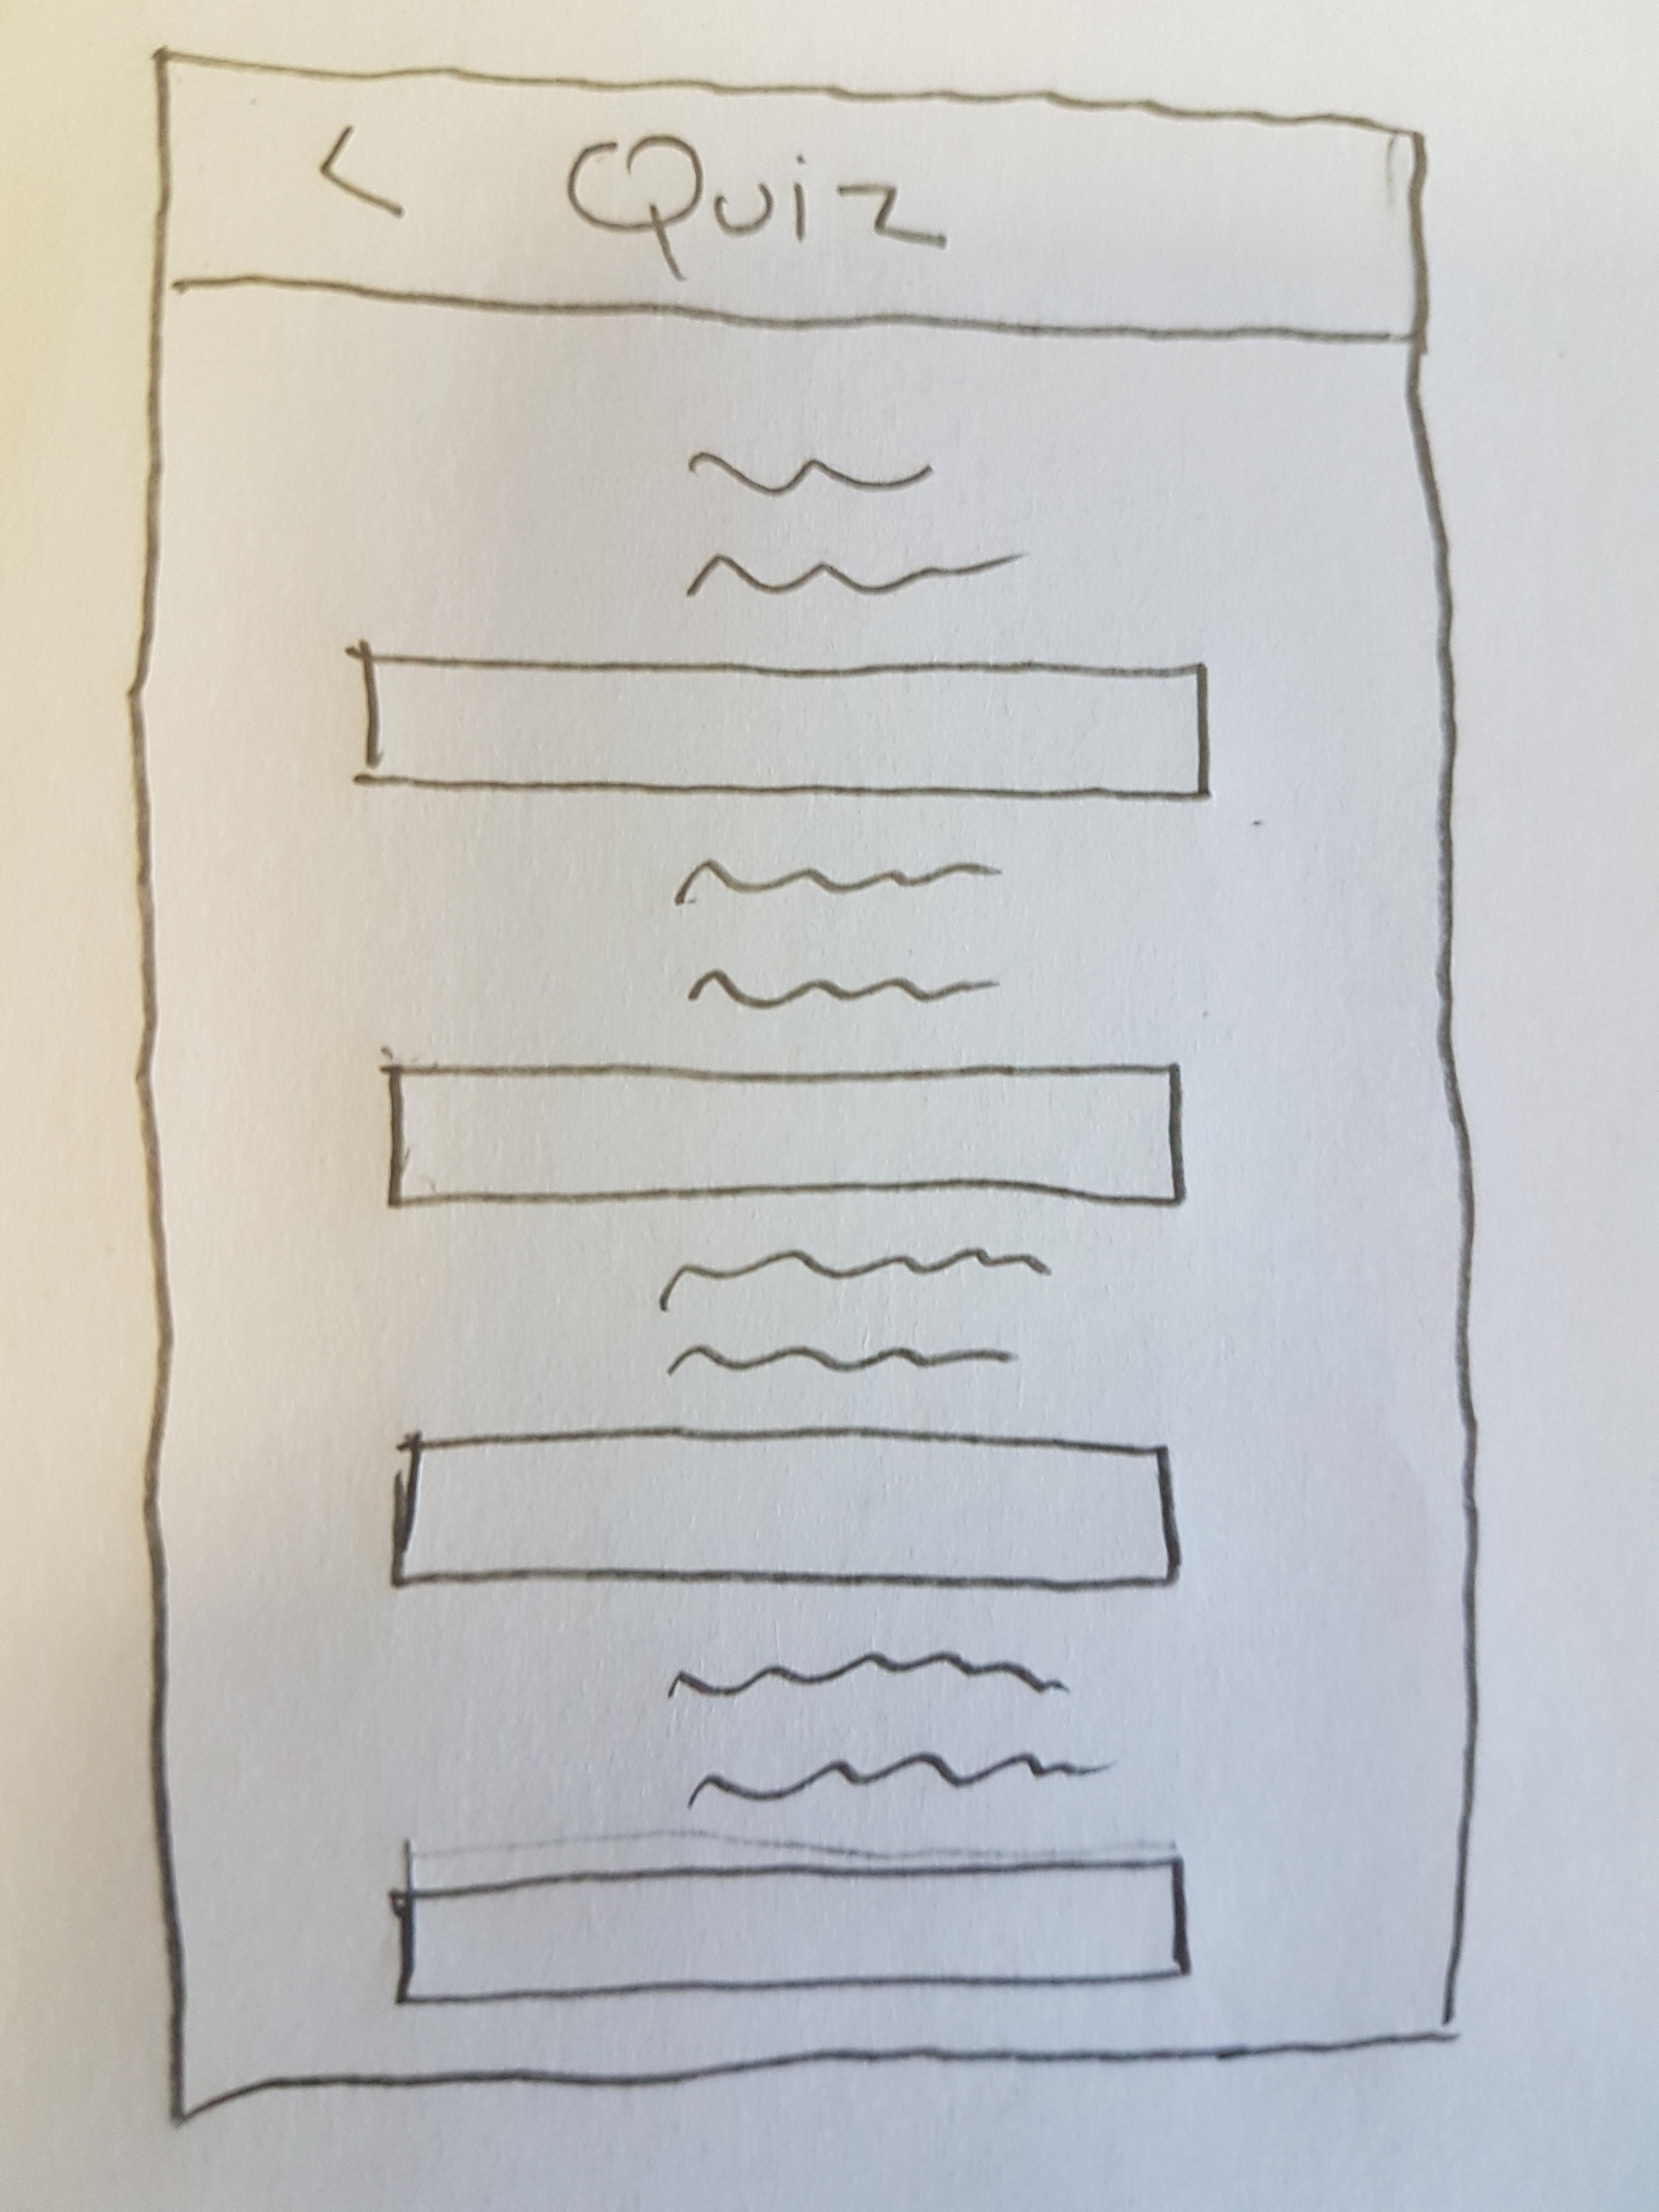Button: (308, 115, 413, 226)
Label: (660, 1648, 1122, 1824), (645, 1240, 1061, 1395), (552, 131, 955, 282), (671, 446, 1030, 615), (666, 853, 1007, 1028)
Screen: (138, 49, 1485, 2121)
TextBox: (389, 1425, 1185, 1592), (392, 1853, 1194, 2010), (380, 1061, 1185, 1214), (347, 657, 1208, 796)
